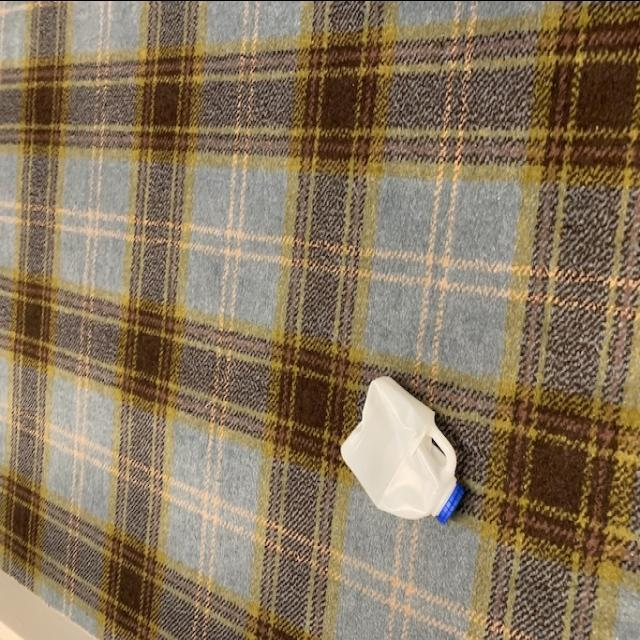HDPEM: (339, 372, 465, 526)
